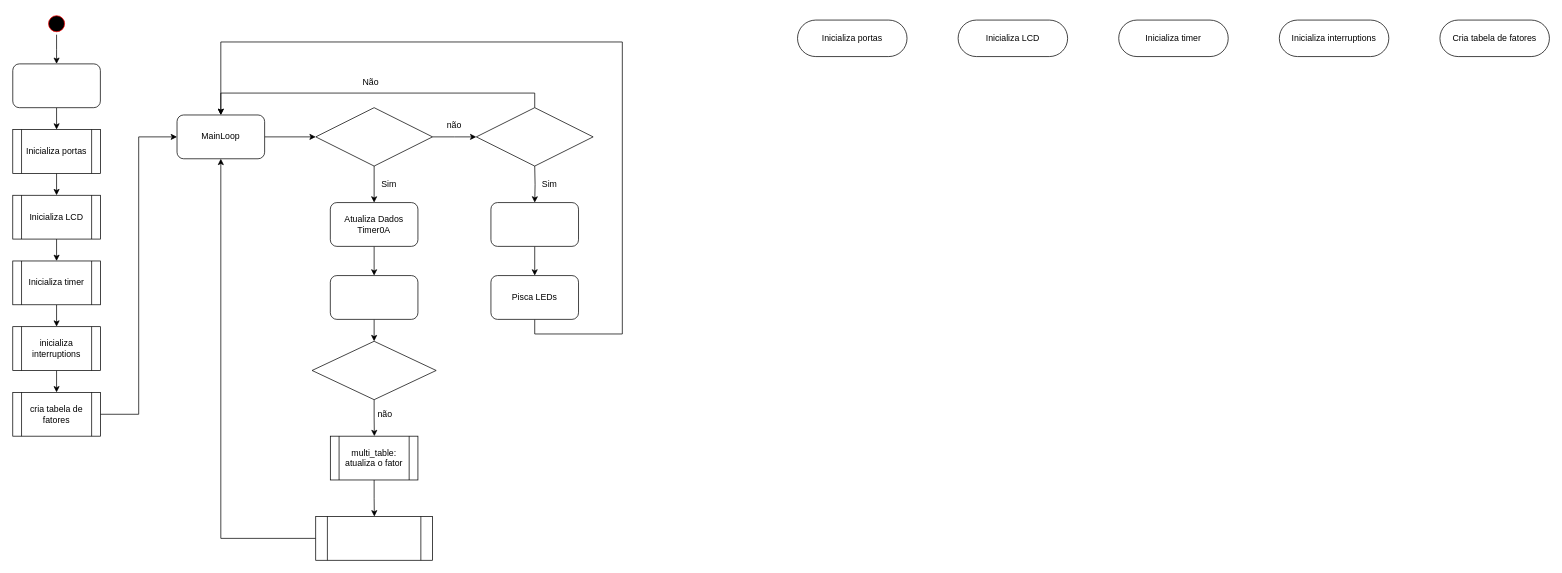
The diagram is 1562 pixels wide and 573 high, and some of its shapes have lost their labels. The shapes that lost their labels are listed below. From the top down, each one's centre as x and y in pixels, then its label:
the point at 56,85: Inicia systick e clock do uP em 80mHz
the point at 374,136: Timer0A == 1?
the point at 534,136: Timer1A == 1?
the point at 534,224: Atualiza Dados Timer1A
the point at 374,297: Lê tecla
the point at 373,370: Key == Prev_keypress?
the point at 374,538: create_first_row & create_second_row: escreve no lcd
